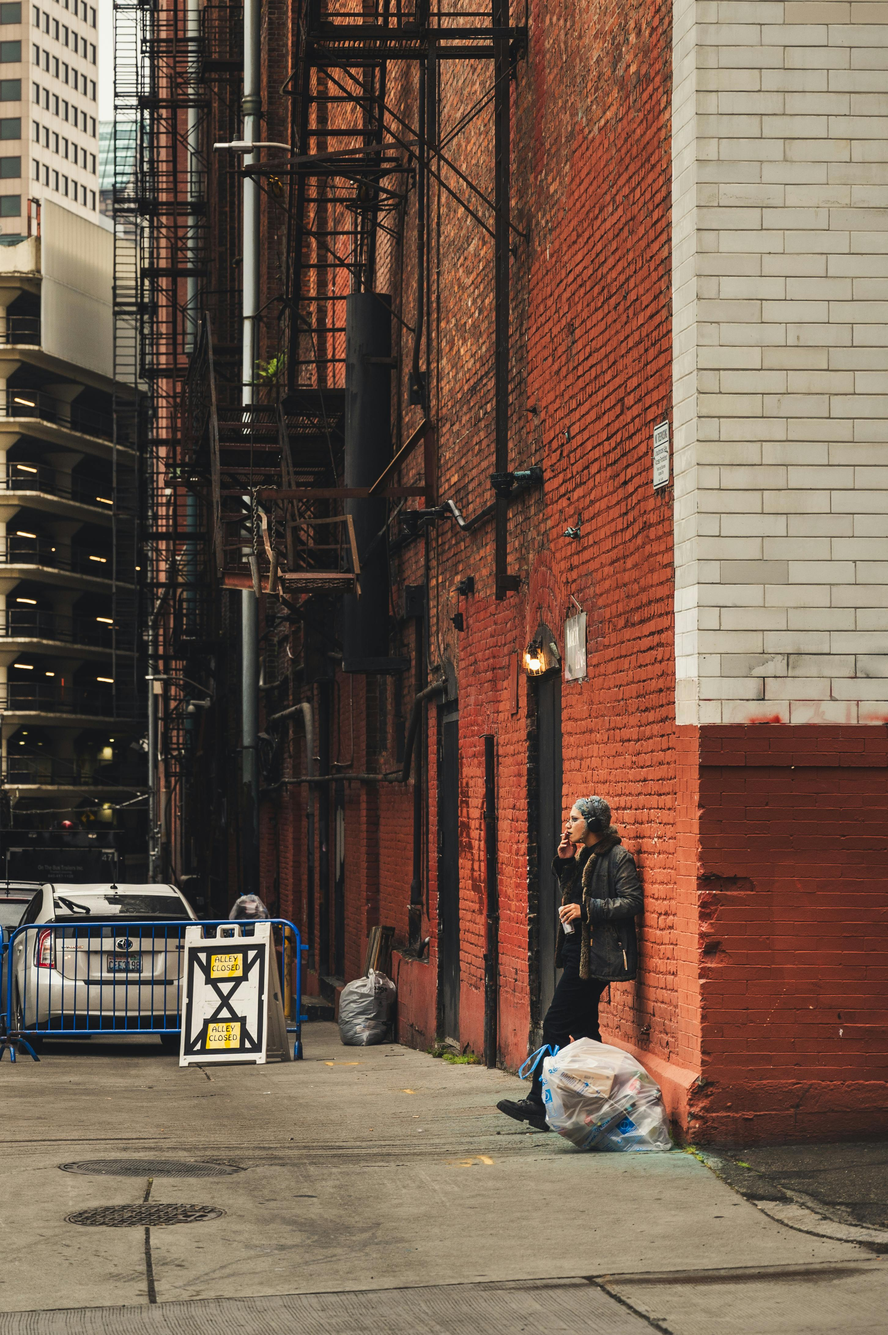Wall: (638, 539, 888, 1073), (443, 691, 521, 1064)
